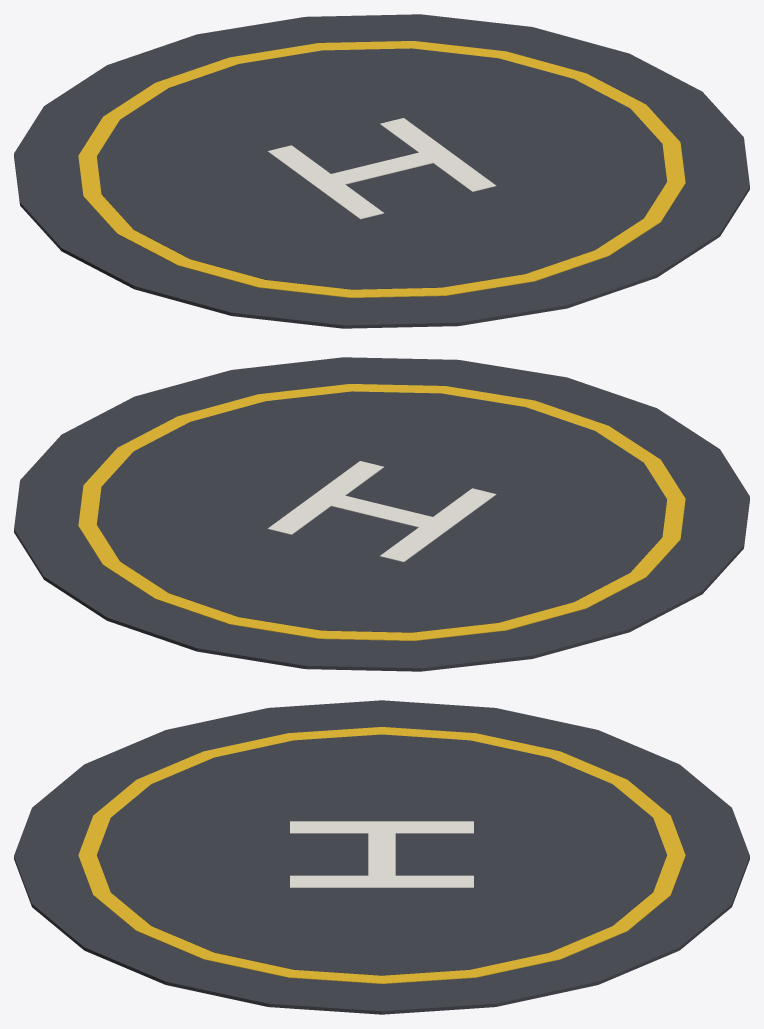
File: helipad.glb
3 renders of one model, top to bottom at view 1: azimuth 30°, elevation 25°; view 2: azimuth 150°, elevation 25°; view 3: azimuth 270°, elevation 25°, orthographic.
Visible parts, largest first — view 1: helipad; view 2: helipad; view 3: helipad.
Part boxes in pixels (<box>): helipad: <box>14,14,749,328</box>; helipad: <box>14,357,749,671</box>; helipad: <box>14,700,749,1014</box>.
Size of the model in its own units: 16 by 0.115 by 16.
